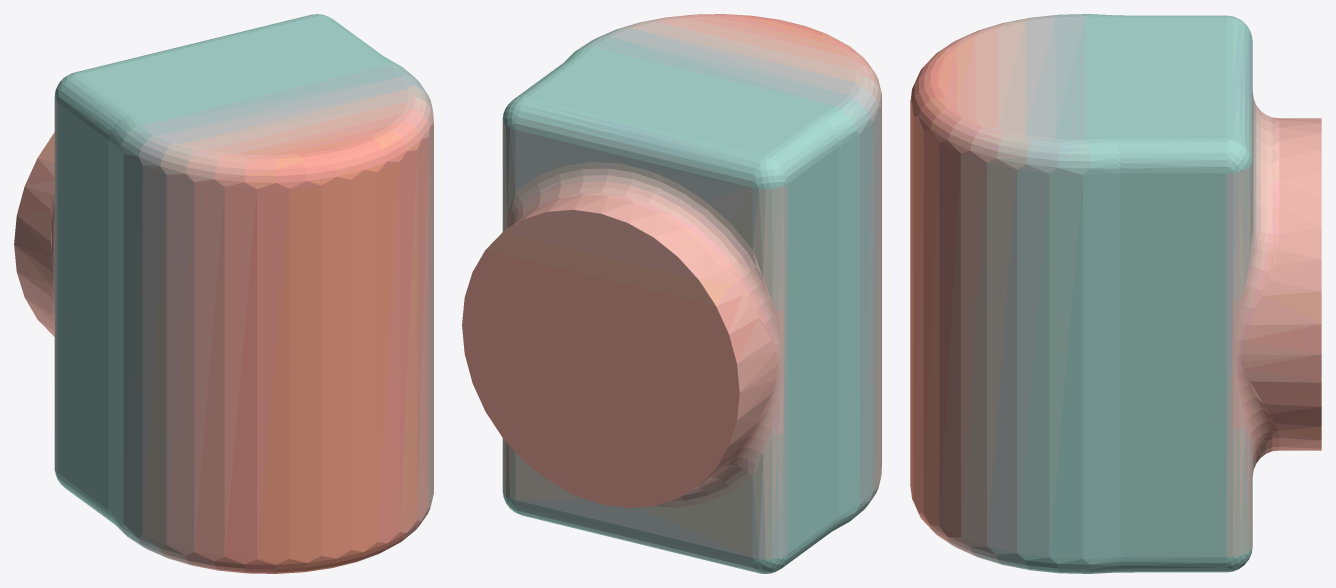
The model's file is UnitreeZ1Link5.dae.
3 renders of one model, left to right at view 1: azimuth 30°, elevation 25°; view 2: azimuth 150°, elevation 25°; view 3: azimuth 270°, elevation 25°, orthographic. The views are drawn at different scales.
Parts seen in each view (by area): view 1: UnitreeZ1Link5; view 2: UnitreeZ1Link5; view 3: UnitreeZ1Link5.
Boxes of the visible parts, x1=… form: UnitreeZ1Link5: x1=14, y1=14, x2=433, y2=573; UnitreeZ1Link5: x1=462, y1=14, x2=881, y2=573; UnitreeZ1Link5: x1=910, y1=14, x2=1321, y2=573.
Bounding box in the file's own units: 0.0652 × 0.0777 × 0.09.
